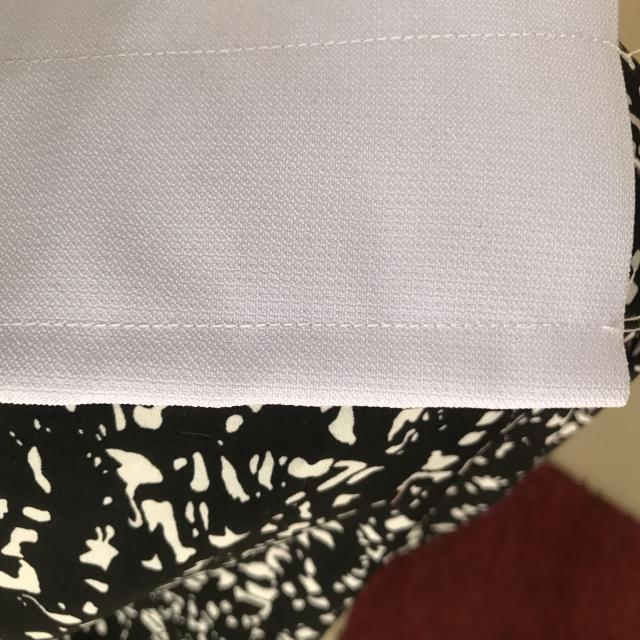good: (36, 304, 398, 341), (112, 38, 365, 58), (414, 25, 556, 53)
